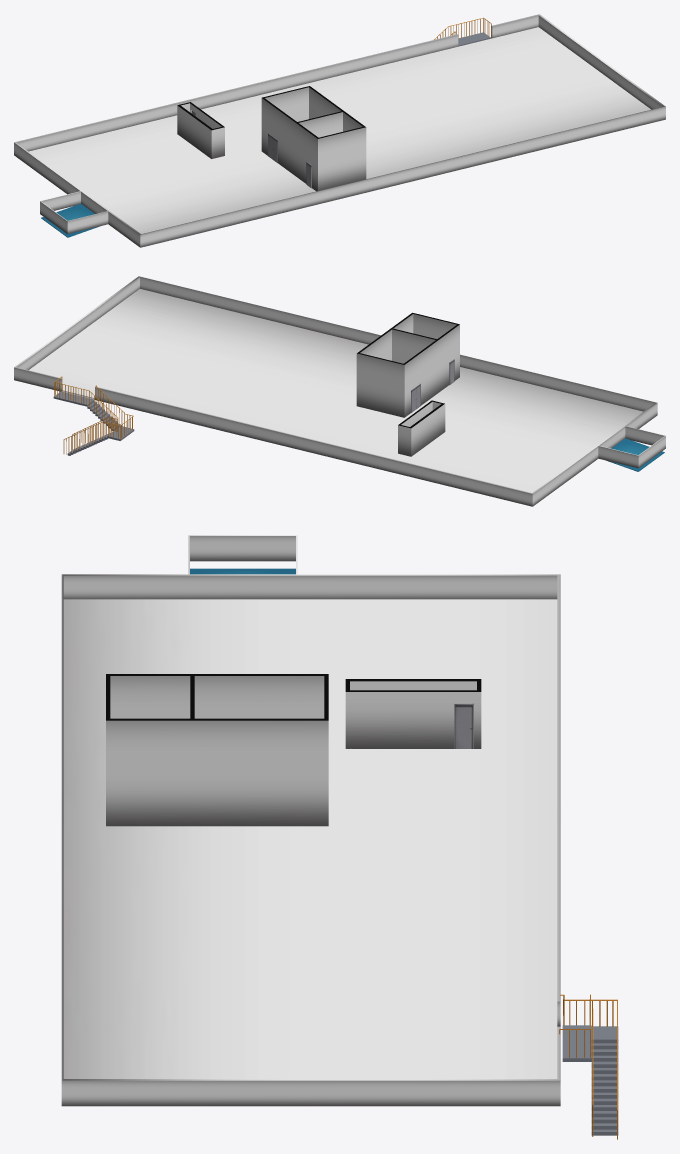
Rendered from soulbrain_F-1-3F.glb.
3 views of the same model, one above another, from view 1: azimuth 30°, elevation 25°; view 2: azimuth 150°, elevation 25°; view 3: azimuth 270°, elevation 25° (orthographic). The views are drawn at different scales.
Parts seen in each view (by area): view 1: Box362, F-1-3F, Box371, Line204, Box366; view 2: Box362, F-1-3F, Box371, Line204, Box366; view 3: Box362, Box371, F-1-3F, Line204.
Boxes of the visible parts, x1,y1,x2,y2 form: Box362: (28,27,650,233); F-1-3F: (14,14,665,247); Box371: (177,86,366,191); Line204: (434,17,491,46); Box366: (41,203,99,237); Box362: (29,289,642,492); F-1-3F: (14,276,665,506); Box371: (356,312,459,456); Line204: (53,376,134,455); Box366: (608,438,664,471); Box362: (63,599,557,1078); Box371: (106,674,481,826); F-1-3F: (61,535,560,1106); Line204: (559,994,618,1139).
Bounding box in the file's own units: 59.75 × 10.4 × 25.78.
7 materials, 6 textured.
